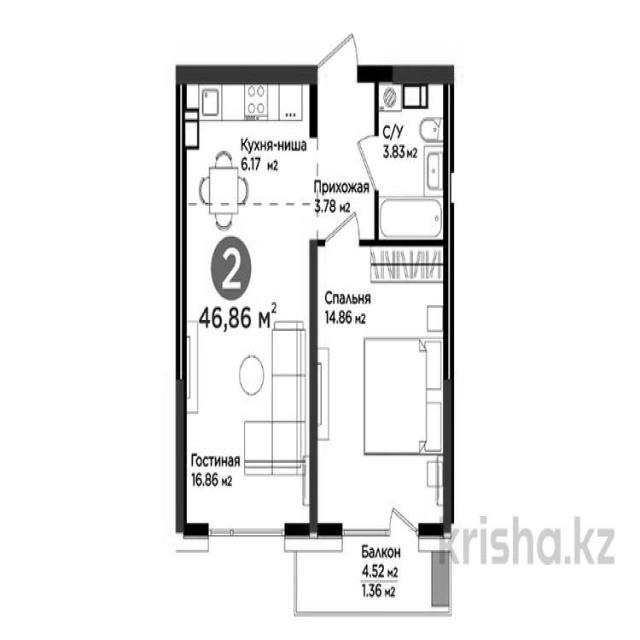balcony: (294, 529, 450, 613)
bathroom: (378, 76, 452, 243)
hallway: (313, 72, 376, 240)
living_room: (314, 243, 451, 531)
studio: (180, 80, 312, 534)
